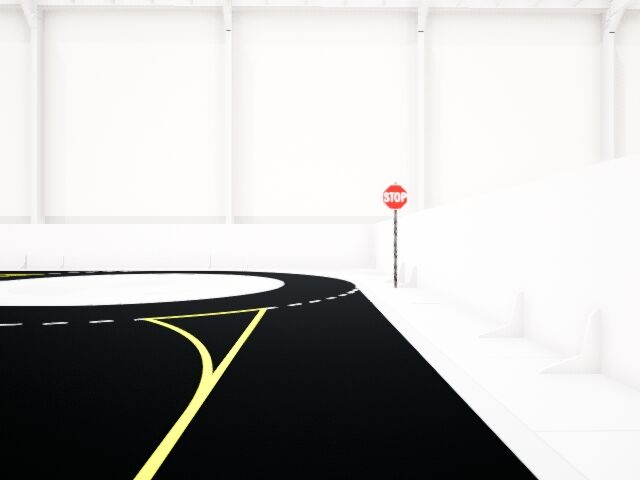stopsign: (380, 181, 411, 212)
